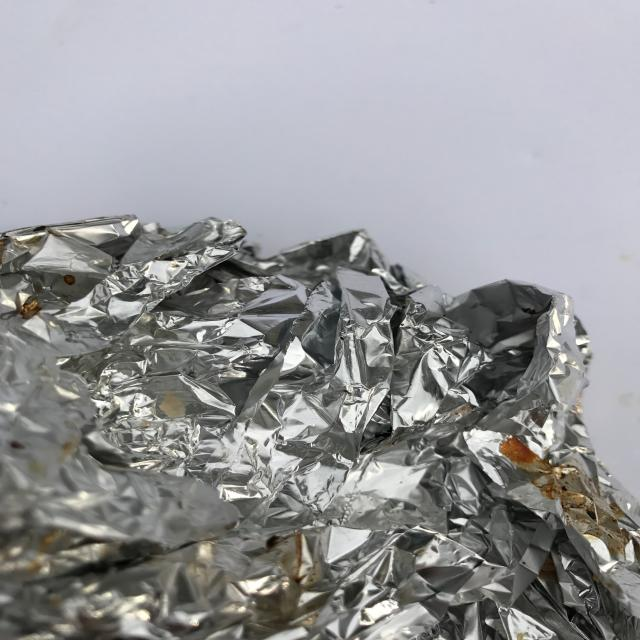metal: (0, 214, 639, 640)
